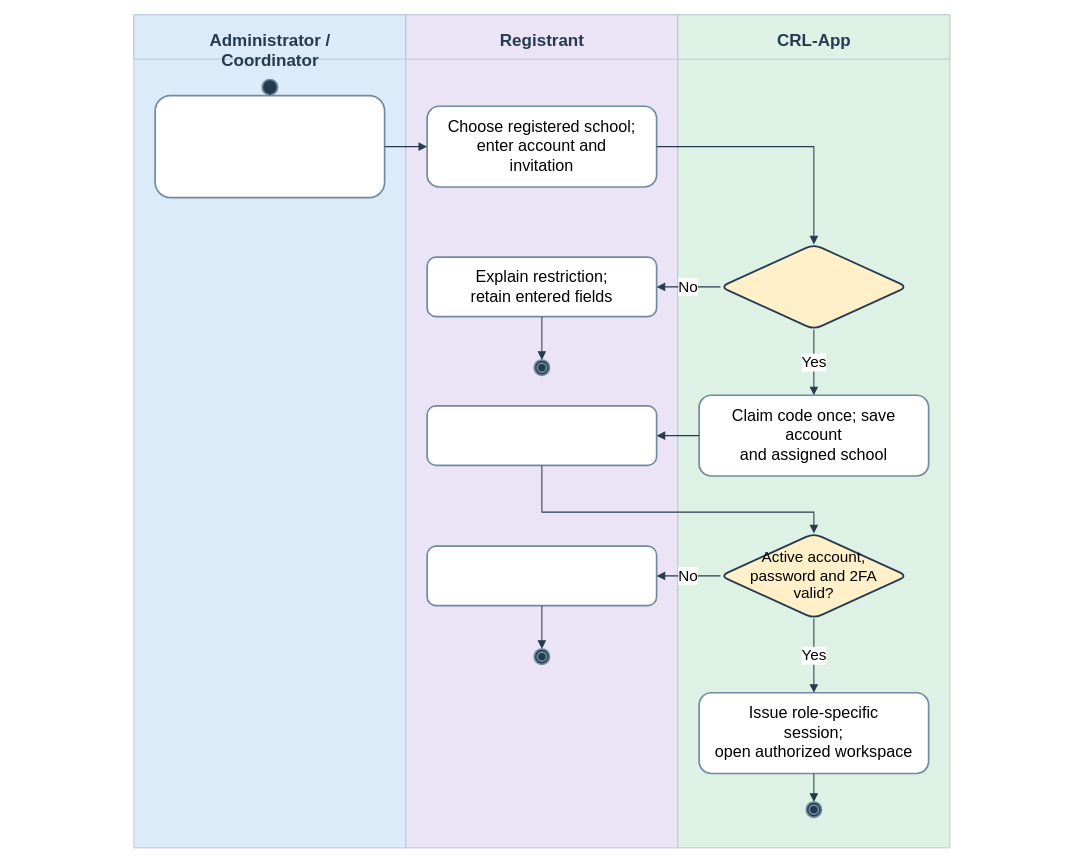
The diagram is 1083 pixels wide and 863 high, and some of its shapes have lost their labels. The box of each missing label's shape, as (x1, y1, x2, y2) in pixels:
Administrator invites coordinator; coordinator invites teacher: (154, 94, 385, 198)
Code role, school, issuer and account valid?: (719, 243, 908, 330)
Deny access; apply password lockout policy: (426, 545, 657, 606)
Sign in with email or username and password: (426, 405, 657, 466)
